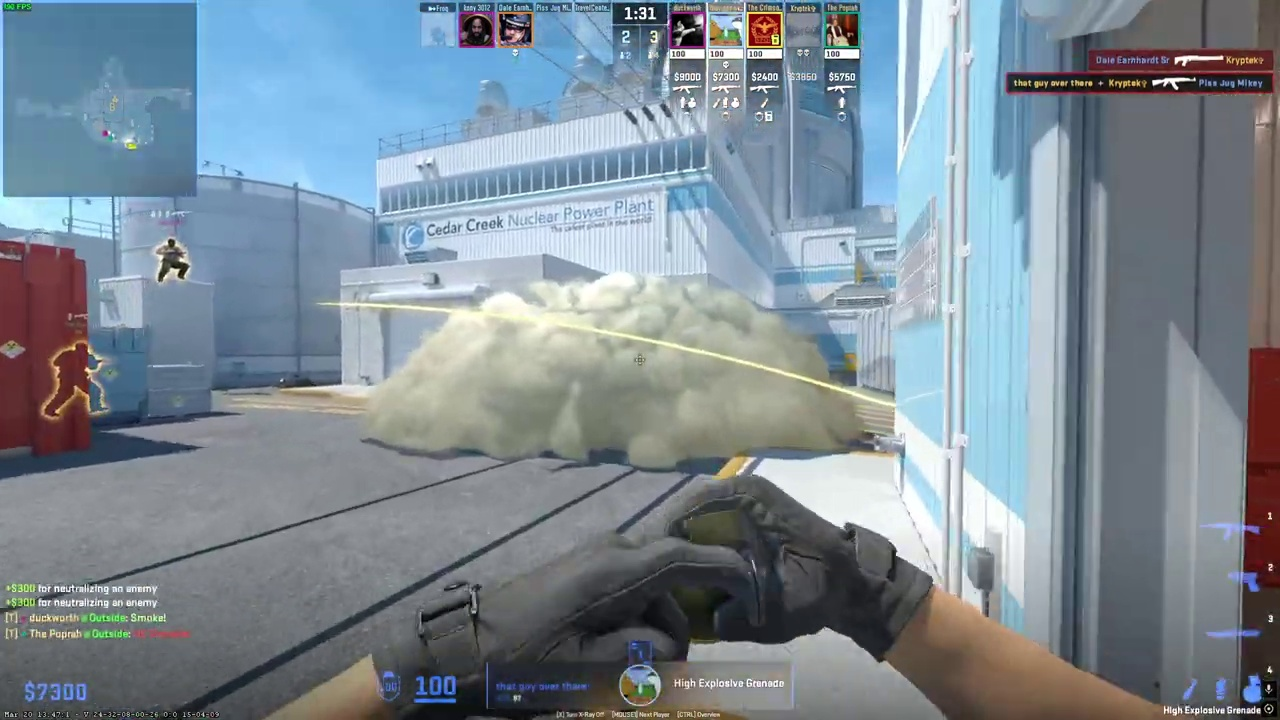Terrorist: (156, 239, 188, 283)
